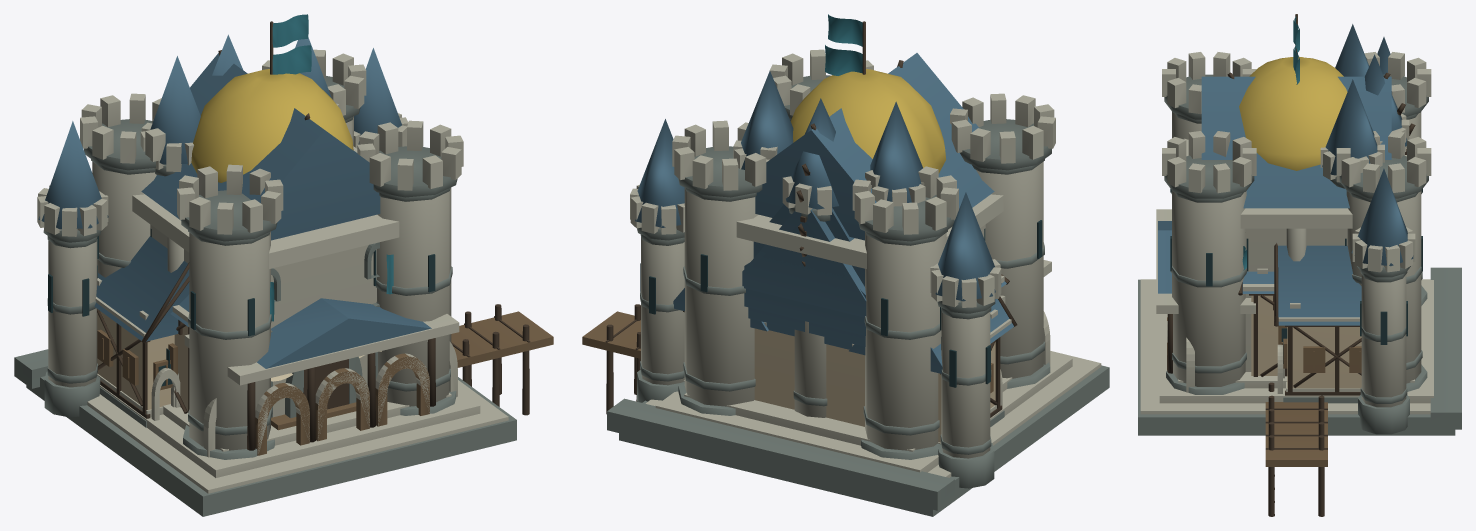
File: frontier-low.glb
The picture shows the model from 3 angles, left to right: view 1: azimuth 30°, elevation 25°; view 2: azimuth 150°, elevation 25°; view 3: azimuth 270°, elevation 25°; orthographic projection. The views are drawn at different scales.
Parts seen in each view (by area): view 1: part_167, part_191, part_169, part_190, part_166, part_193, part_26, part_5, part_8, part_27, part_467, part_235 (+15 smaller); view 2: part_167, part_24, part_26, part_191, part_166, part_183, part_169, part_193, part_190, part_181, part_258, part_645 (+15 smaller); view 3: part_167, part_191, part_193, part_169, part_24, part_26, part_166, part_467, part_190, part_196, part_183, part_3 (+19 smaller).
Boxes of the visible parts, x1,y1,x2,y2 form: part_167: (80, 49, 463, 450); part_191: (87, 146, 508, 493); part_169: (141, 53, 380, 240); part_190: (26, 301, 516, 516); part_166: (84, 75, 457, 459); part_193: (191, 69, 353, 182); part_26: (37, 113, 408, 387); part_5: (146, 34, 431, 368); part_8: (102, 338, 429, 455); part_27: (38, 48, 401, 229); part_467: (94, 236, 189, 340); part_235: (95, 278, 459, 420); part_167: (672, 49, 1055, 450); part_24: (607, 227, 995, 510); part_26: (630, 184, 1001, 458); part_191: (645, 194, 1101, 477); part_166: (678, 75, 1051, 459); part_183: (741, 71, 922, 317); part_169: (755, 53, 994, 240); part_193: (790, 69, 946, 173); part_190: (619, 365, 1109, 516); part_181: (754, 328, 864, 426); part_258: (635, 119, 992, 301); part_645: (742, 208, 866, 317); part_167: (1162, 52, 1431, 386); part_191: (1140, 138, 1433, 414); part_193: (1239, 56, 1347, 170); part_169: (1201, 76, 1391, 208); part_24: (1357, 266, 1461, 434); part_26: (1352, 227, 1415, 407); part_166: (1164, 74, 1428, 394); part_467: (1278, 245, 1361, 325); part_190: (1138, 279, 1455, 435); part_196: (1265, 402, 1327, 466); part_183: (1322, 24, 1377, 175); part_3: (1287, 327, 1361, 388).
Size of the model in its own units: 14.82 by 14 by 10.39.
